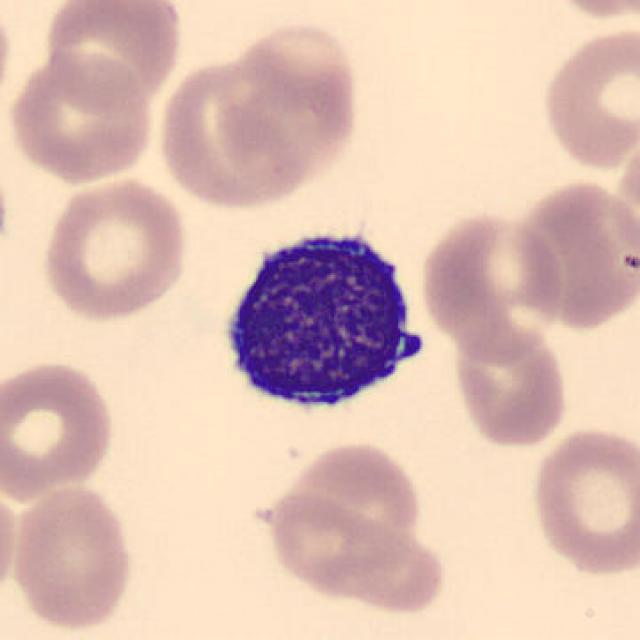Lymphocyte: (208, 211, 443, 425)
RBC: (164, 18, 366, 210), (416, 204, 567, 358), (37, 174, 192, 324), (260, 488, 439, 614), (4, 48, 158, 185), (262, 439, 428, 566), (505, 175, 638, 333), (7, 480, 139, 634), (0, 356, 119, 504), (526, 422, 638, 578), (447, 319, 572, 451), (39, 0, 185, 113), (537, 21, 638, 173), (0, 478, 23, 605), (531, 0, 640, 21), (0, 2, 16, 127)
